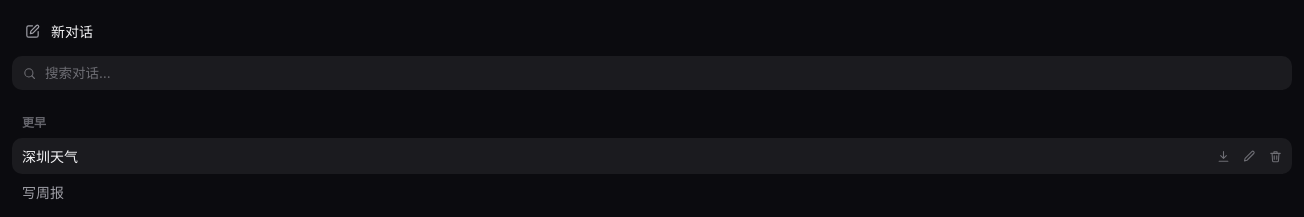
Test case: 会话管理 › 重命名：点 ✎ 出输入框，回车保存并调 PATCH
Expected: the button "深圳天气" is shown, [12,138,1206,174]
Click the button titled "重命名": (1249, 156) [1236,143,1262,169]
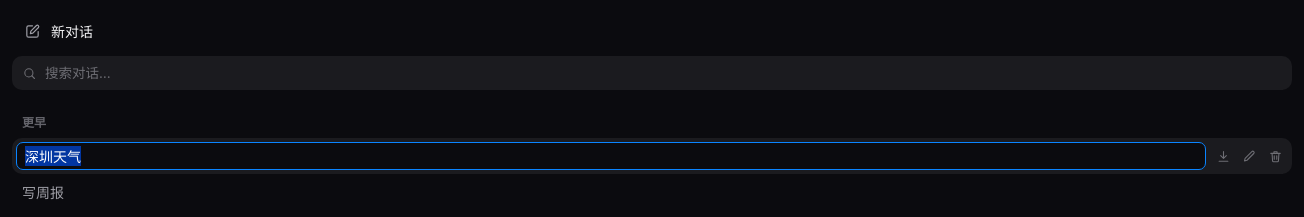
Replace the text in the field showing "深圳天气" with "天气专线": (611, 156) [16,142,1206,170]
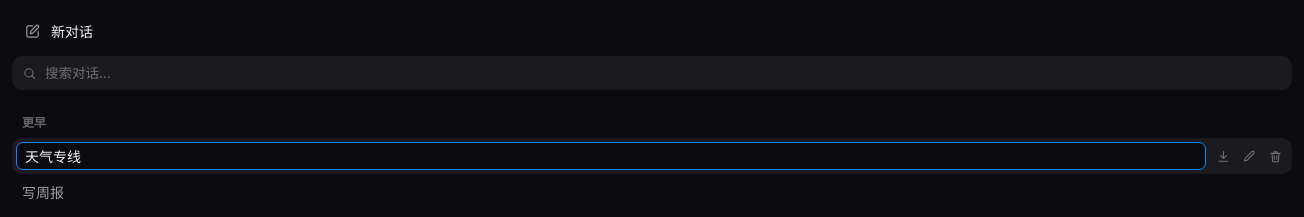
Press Enter in the field showing "深圳天气", box [16,142,1206,170]
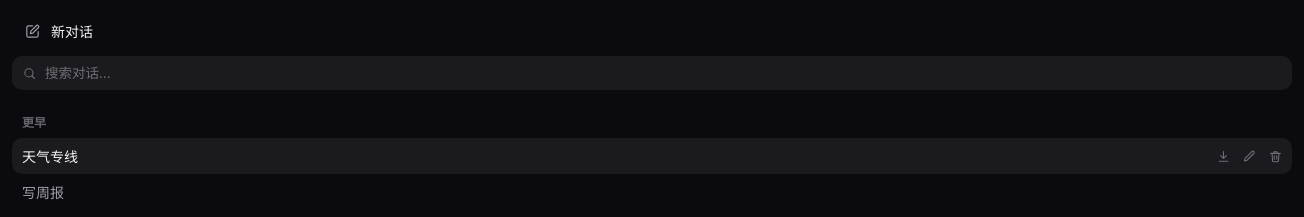
Now the button "天气专线" is shown, box [12,138,1206,174]
